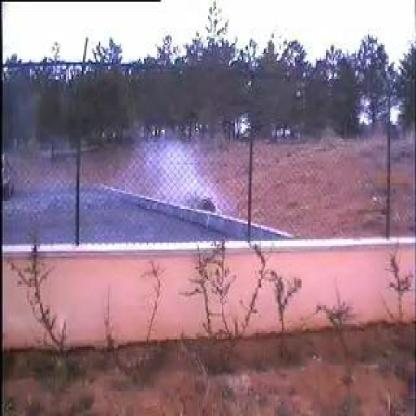-: (43, 140, 246, 240)
